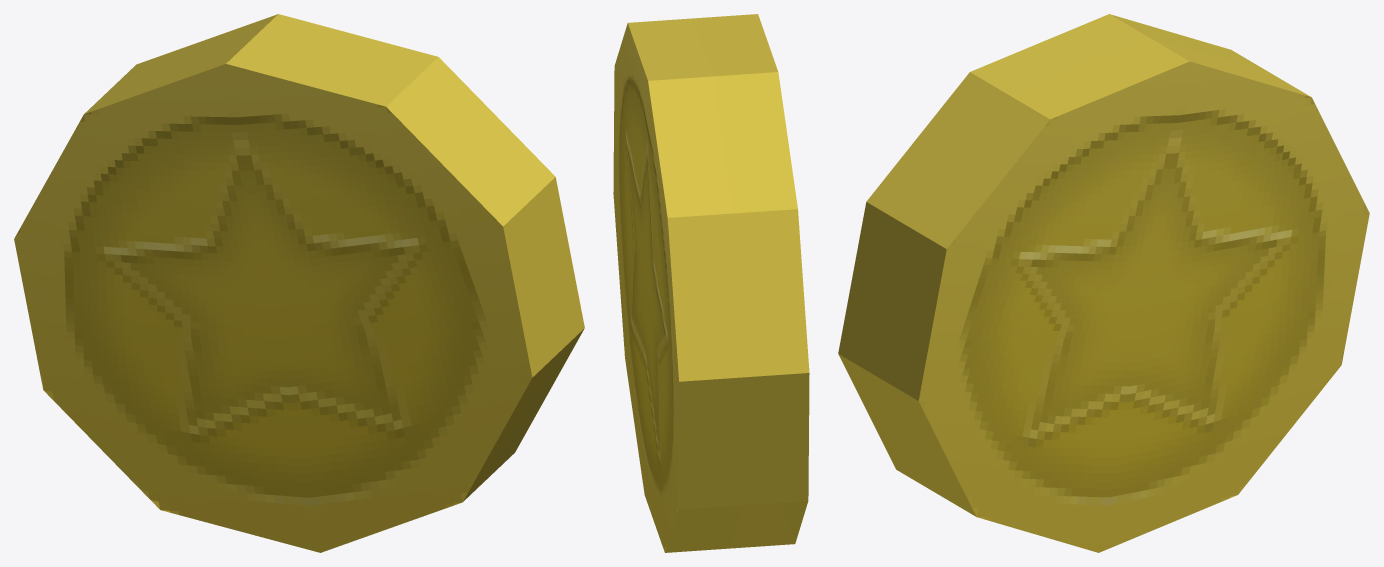
The model's file is coin_1.003_lev1_lev2.glb.
3 views of the same model, side by side, from view 1: azimuth 30°, elevation 25°; view 2: azimuth 150°, elevation 25°; view 3: azimuth 270°, elevation 25° (orthographic). The views are drawn at different scales.
Parts seen in each view (by area): view 1: coin_1.003_lev1_lev2; view 2: coin_1.003_lev1_lev2; view 3: coin_1.003_lev1_lev2.
Boxes of the visible parts, x1=… form: coin_1.003_lev1_lev2: x1=14, y1=14, x2=584, y2=552; coin_1.003_lev1_lev2: x1=613, y1=14, x2=809, y2=552; coin_1.003_lev1_lev2: x1=838, y1=14, x2=1369, y2=552.
Size of the model in its own units: 2.61 by 3.05 by 3.12.
Materials: 1 (1 with a texture image).
